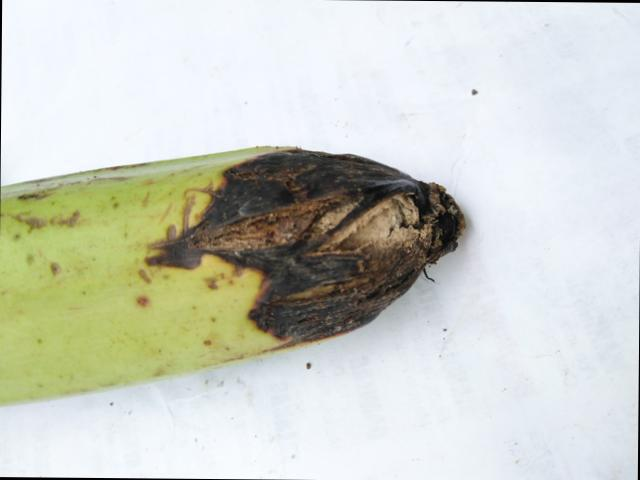rotten: (168, 136, 483, 343)
unripe: (0, 123, 214, 448)
